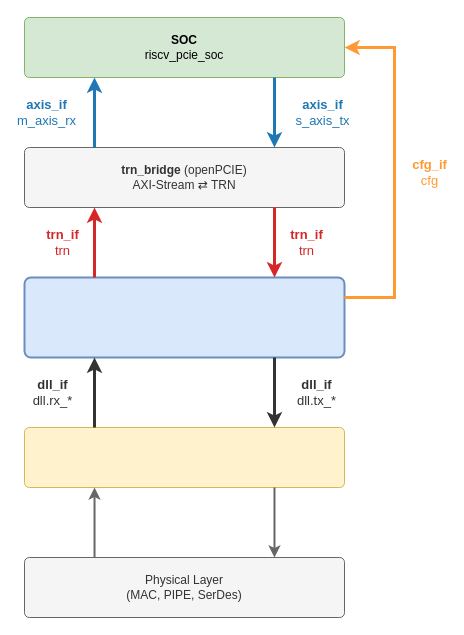
The diagram is 464 pixels wide and 635 high, and some of its shapes have lost their labels. The shapes that lost their labels are listed below. From the top down, each one's box as (x1, y1, x2, y2) in pixels, then its label:
(23, 276, 345, 358): Transaction Layer
(24, 426, 344, 488): Data Link Layer
